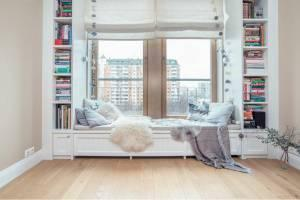window: (89, 37, 219, 119)
